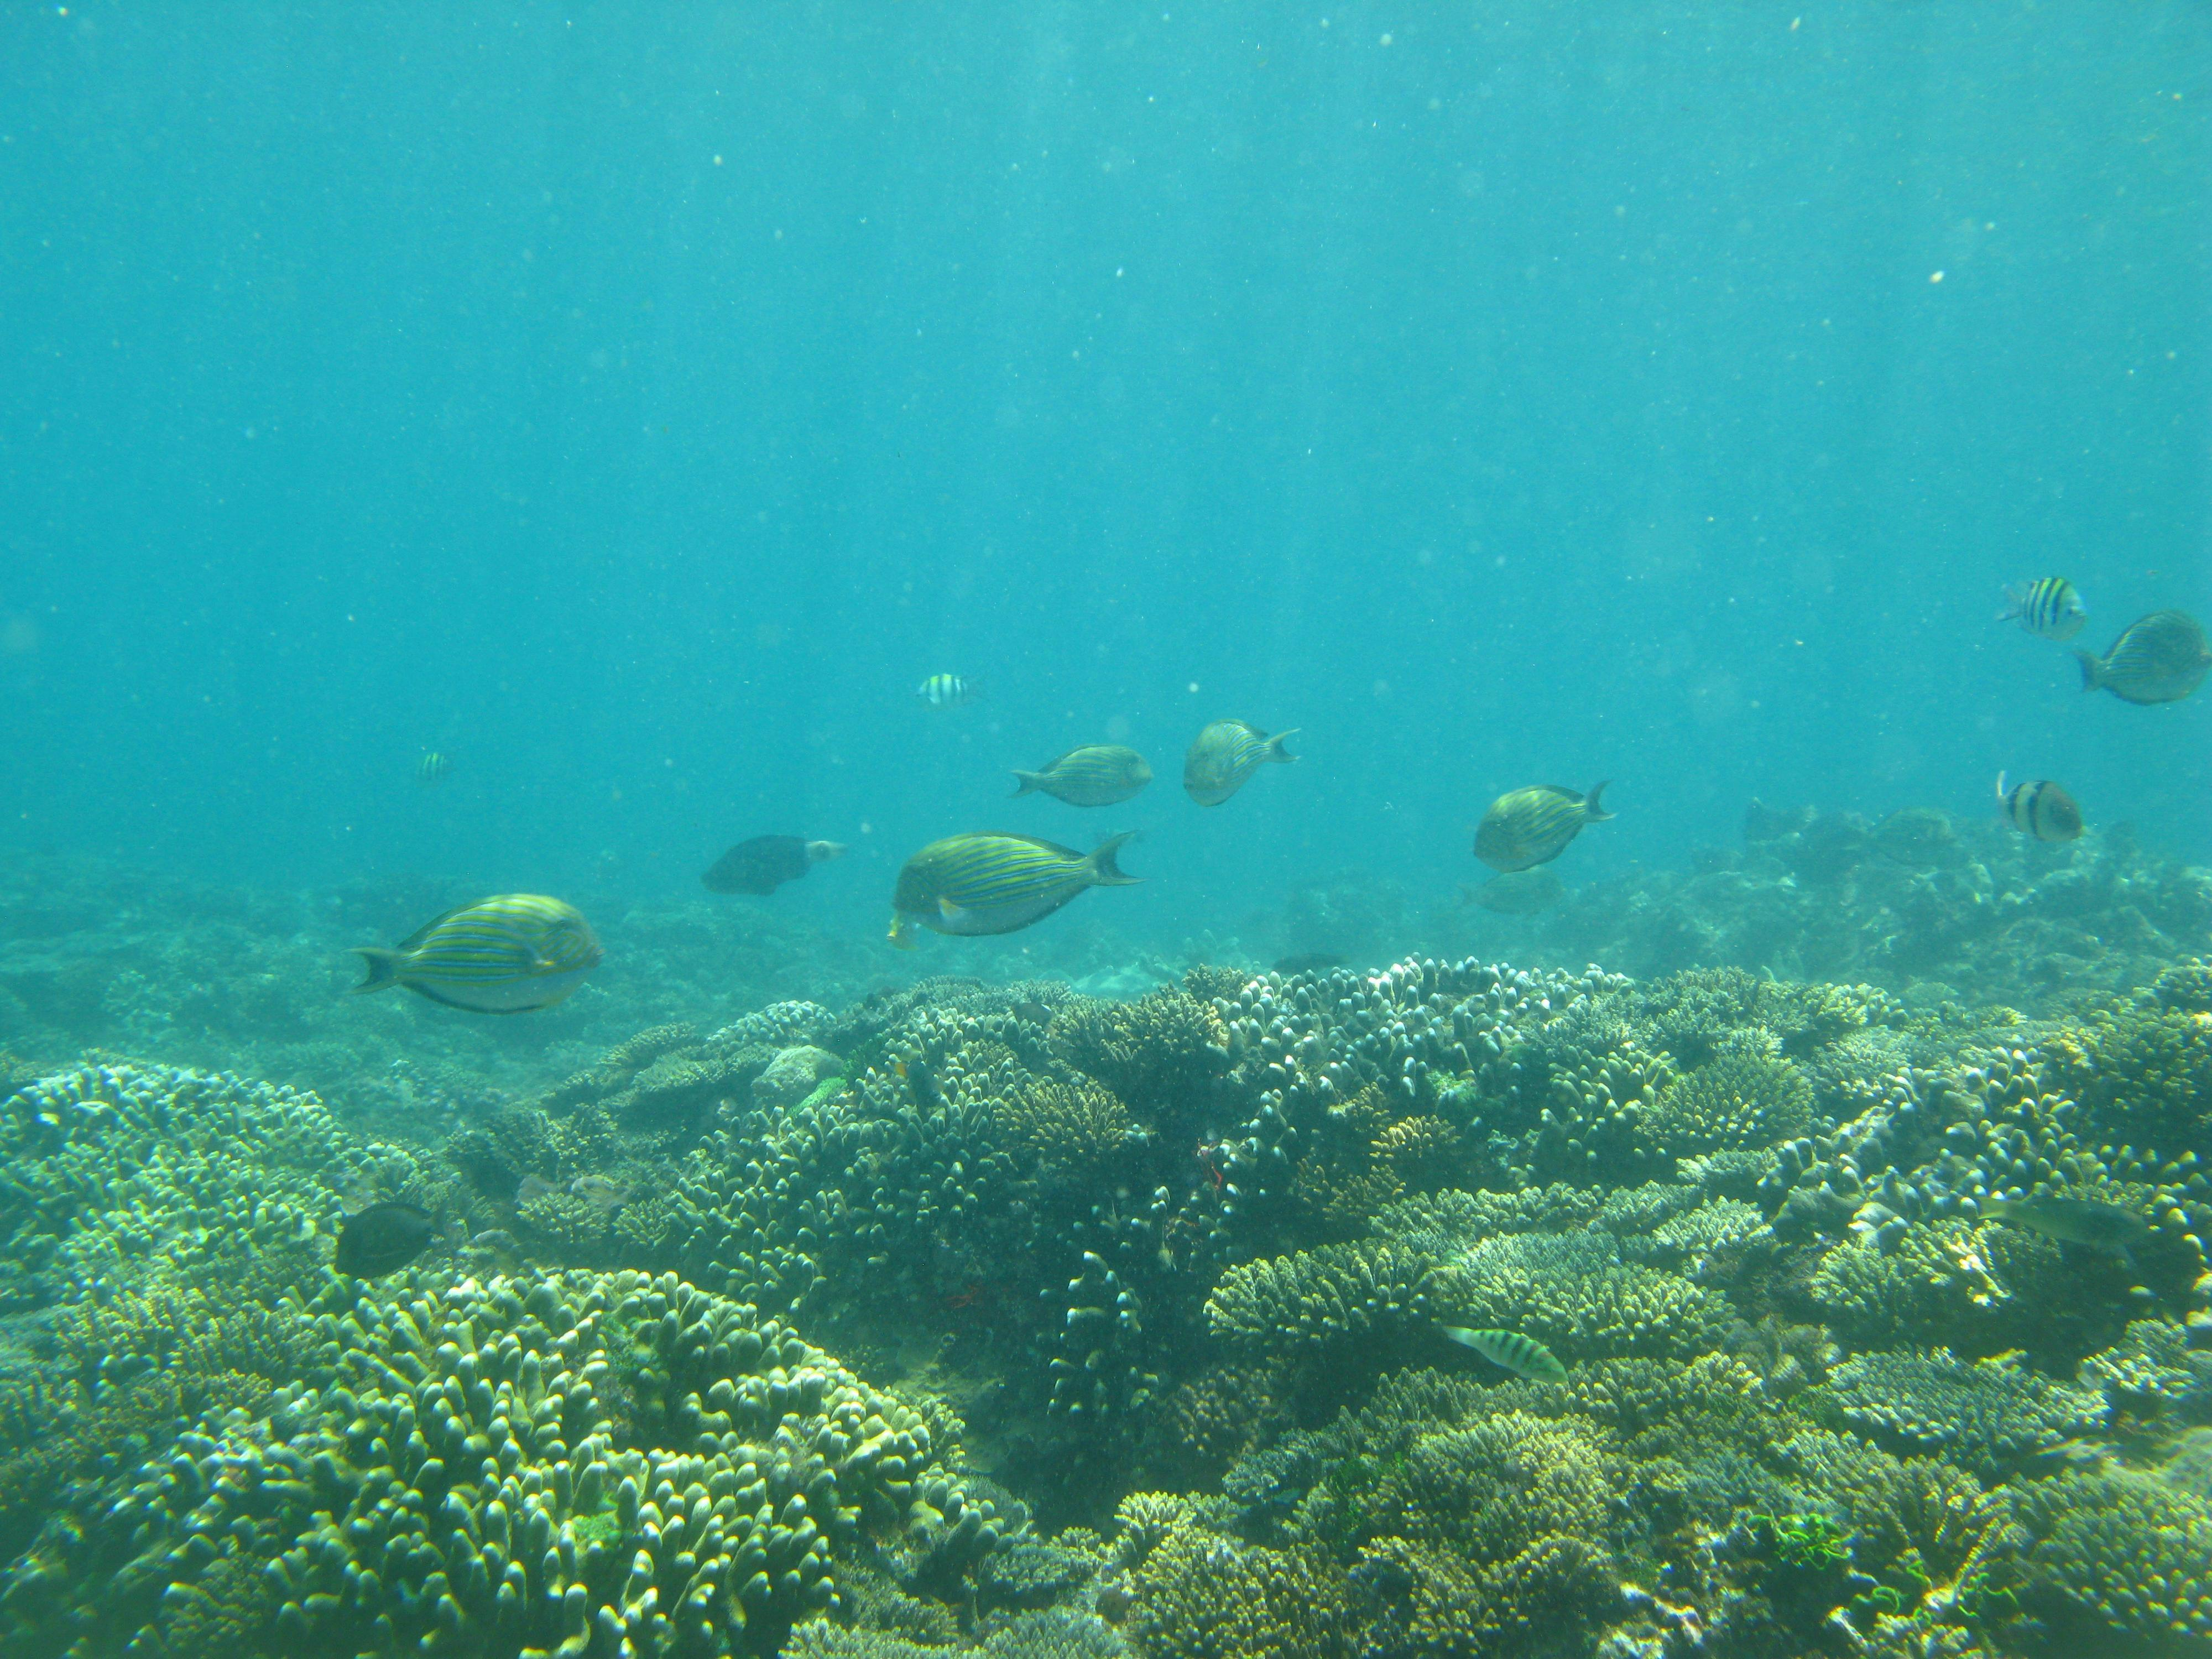Acanthurus lineatus: (319, 878, 615, 1030), (869, 824, 1157, 945), (1465, 767, 1625, 870), (2069, 601, 2212, 714), (1176, 711, 1310, 812), (1000, 739, 1157, 814)
